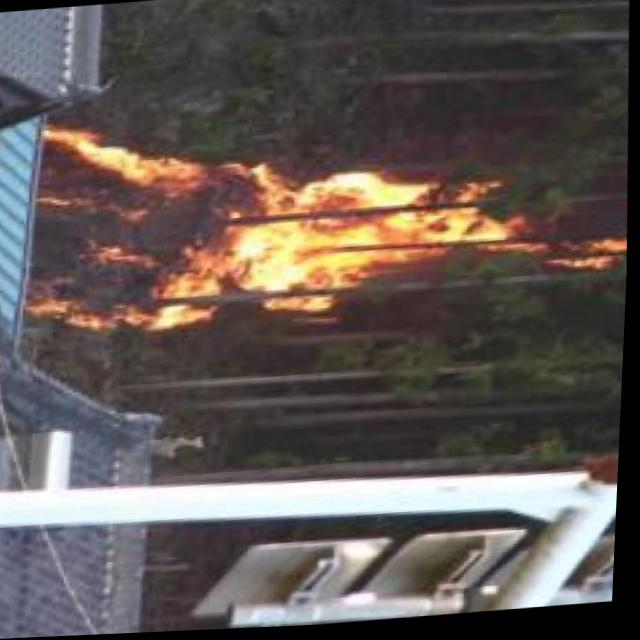Fire: (21, 91, 636, 335)
